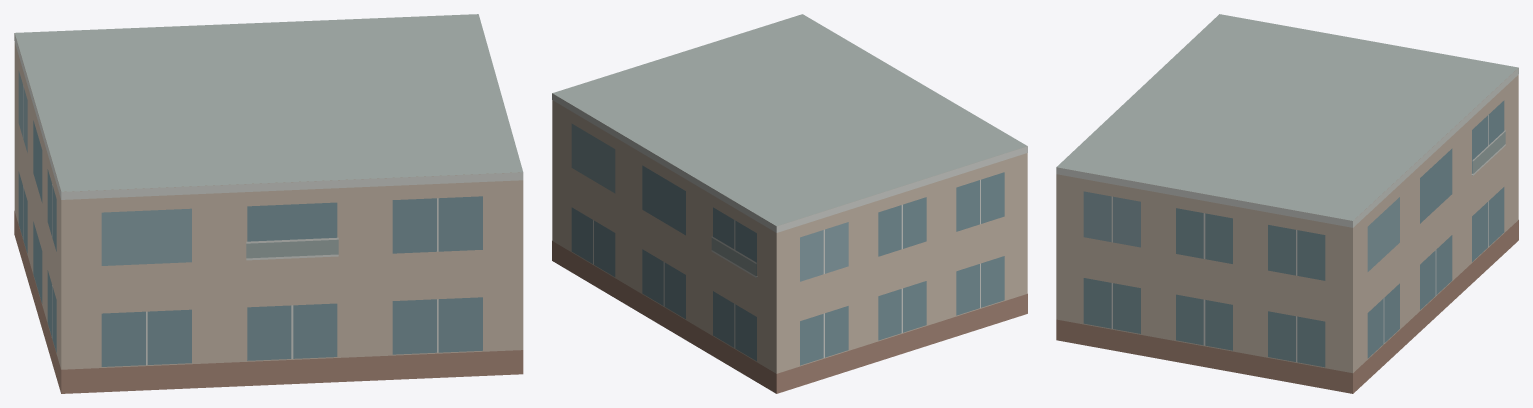
File: survey-upis-32564324.glb
3 views of the same model, side by side, from view 1: azimuth 30°, elevation 25°; view 2: azimuth 150°, elevation 25°; view 3: azimuth 270°, elevation 25° (orthographic). The views are drawn at different scales.
Parts seen in each view (by area): view 1: survey-upis-32564324.tmp; view 2: survey-upis-32564324.tmp; view 3: survey-upis-32564324.tmp.
Boxes of the visible parts, <box> form: survey-upis-32564324.tmp: <box>14,14,523,393</box>; survey-upis-32564324.tmp: <box>552,14,1027,393</box>; survey-upis-32564324.tmp: <box>1056,14,1518,393</box>.
Bounding box in the file's own units: 15.67 × 6.1 × 14.79.
